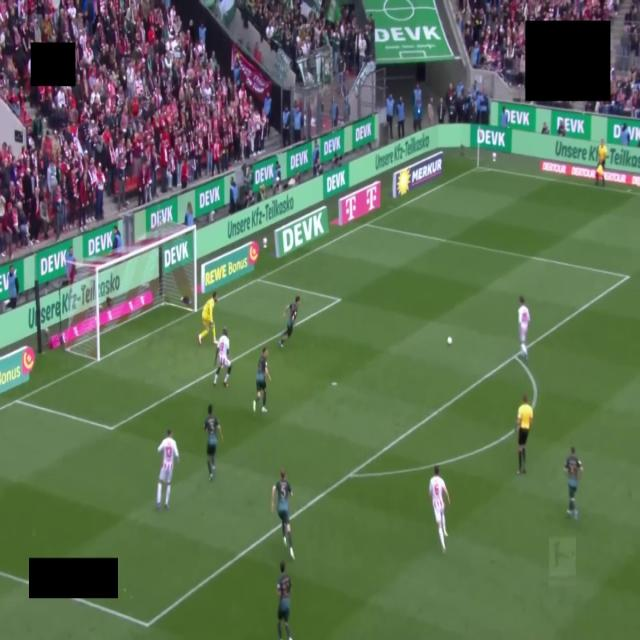ball: (447, 336, 452, 345)
player: (271, 470, 294, 559), (429, 466, 450, 551), (157, 430, 178, 509), (204, 405, 223, 479), (565, 447, 582, 519), (277, 561, 291, 639), (253, 348, 270, 412), (279, 296, 300, 347), (198, 292, 217, 344), (214, 328, 231, 386), (518, 296, 530, 358)
referee: (517, 395, 533, 473)
